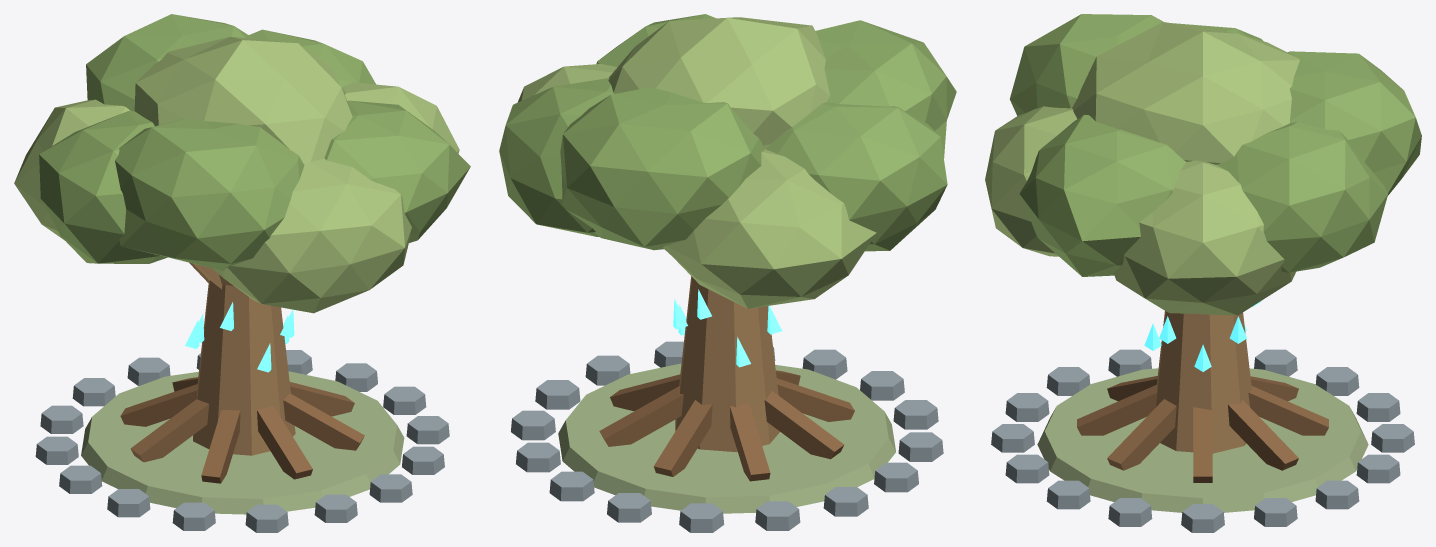
Rendered from WayfarerTree.glb.
The picture shows the model from 3 angles, left to right: view 1: azimuth 30°, elevation 25°; view 2: azimuth 150°, elevation 25°; view 3: azimuth 270°, elevation 25°; orthographic projection. The views are drawn at different scales.
Visible parts, largest first — view 1: Crown.005, TreeIsland, Crown.006, TopCrown, Trunk, Crown.004, Crown.007, Crown.002, Crown.003, Crown, Root.004, Root.007 (+20 smaller); view 2: Crown.002, TreeIsland, Crown.003, TopCrown, Crown.004, Trunk, Crown.005, Crown.001, Root.004, Root.001, Root.002, Root.003 (+19 smaller); view 3: TopCrown, TreeIsland, Crown, Crown.007, Crown.001, Crown.002, Trunk, Crown.005, Crown.006, Root.001, Root.007, Root.006 (+19 smaller).
Boxes of the visible parts, <box> form: Crown.005: <box>115,118,304,270</box>; TreeIsland: <box>81,371,404,514</box>; Crown.006: <box>212,158,411,313</box>; TopCrown: <box>134,36,352,164</box>; Trunk: <box>193,280,295,455</box>; Crown.004: <box>39,111,167,263</box>; Crown.007: <box>324,100,470,242</box>; Crown.002: <box>86,14,254,111</box>; Crown.003: <box>14,99,130,240</box>; Crown: <box>341,82,459,153</box>; Root.004: <box>130,399,209,462</box>; Root.007: <box>283,393,364,450</box>; Crown.002: <box>560,87,764,250</box>; TreeIsland: <box>558,363,895,513</box>; Crown.003: <box>663,149,876,308</box>; TopCrown: <box>608,17,830,149</box>; Crown.004: <box>766,102,947,251</box>; Trunk: <box>675,276,779,452</box>; Crown.005: <box>815,20,956,157</box>; Crown.001: <box>499,78,614,236</box>; Root.004: <box>764,391,844,459</box>; Root.001: <box>599,386,683,446</box>; Root.002: <box>653,400,712,476</box>; Root.003: <box>730,402,770,481</box>; TopCrown: <box>1072,22,1299,164</box>; TreeIsland: <box>1037,368,1368,512</box>; Crown: <box>1113,160,1295,315</box>; Crown.007: <box>1019,114,1185,276</box>; Crown.001: <box>1216,122,1387,272</box>; Crown.002: <box>1287,51,1421,195</box>; Trunk: <box>1155,311,1251,453</box>; Crown.005: <box>1010,14,1163,115</box>; Crown.006: <box>985,106,1076,256</box>; Root.001: <box>1228,400,1298,470</box>; Root.007: <box>1107,399,1176,470</box>; Root.006: <box>1077,384,1156,435</box>.
Size of the model in its own units: 18.99 by 18.71 by 17.94.
